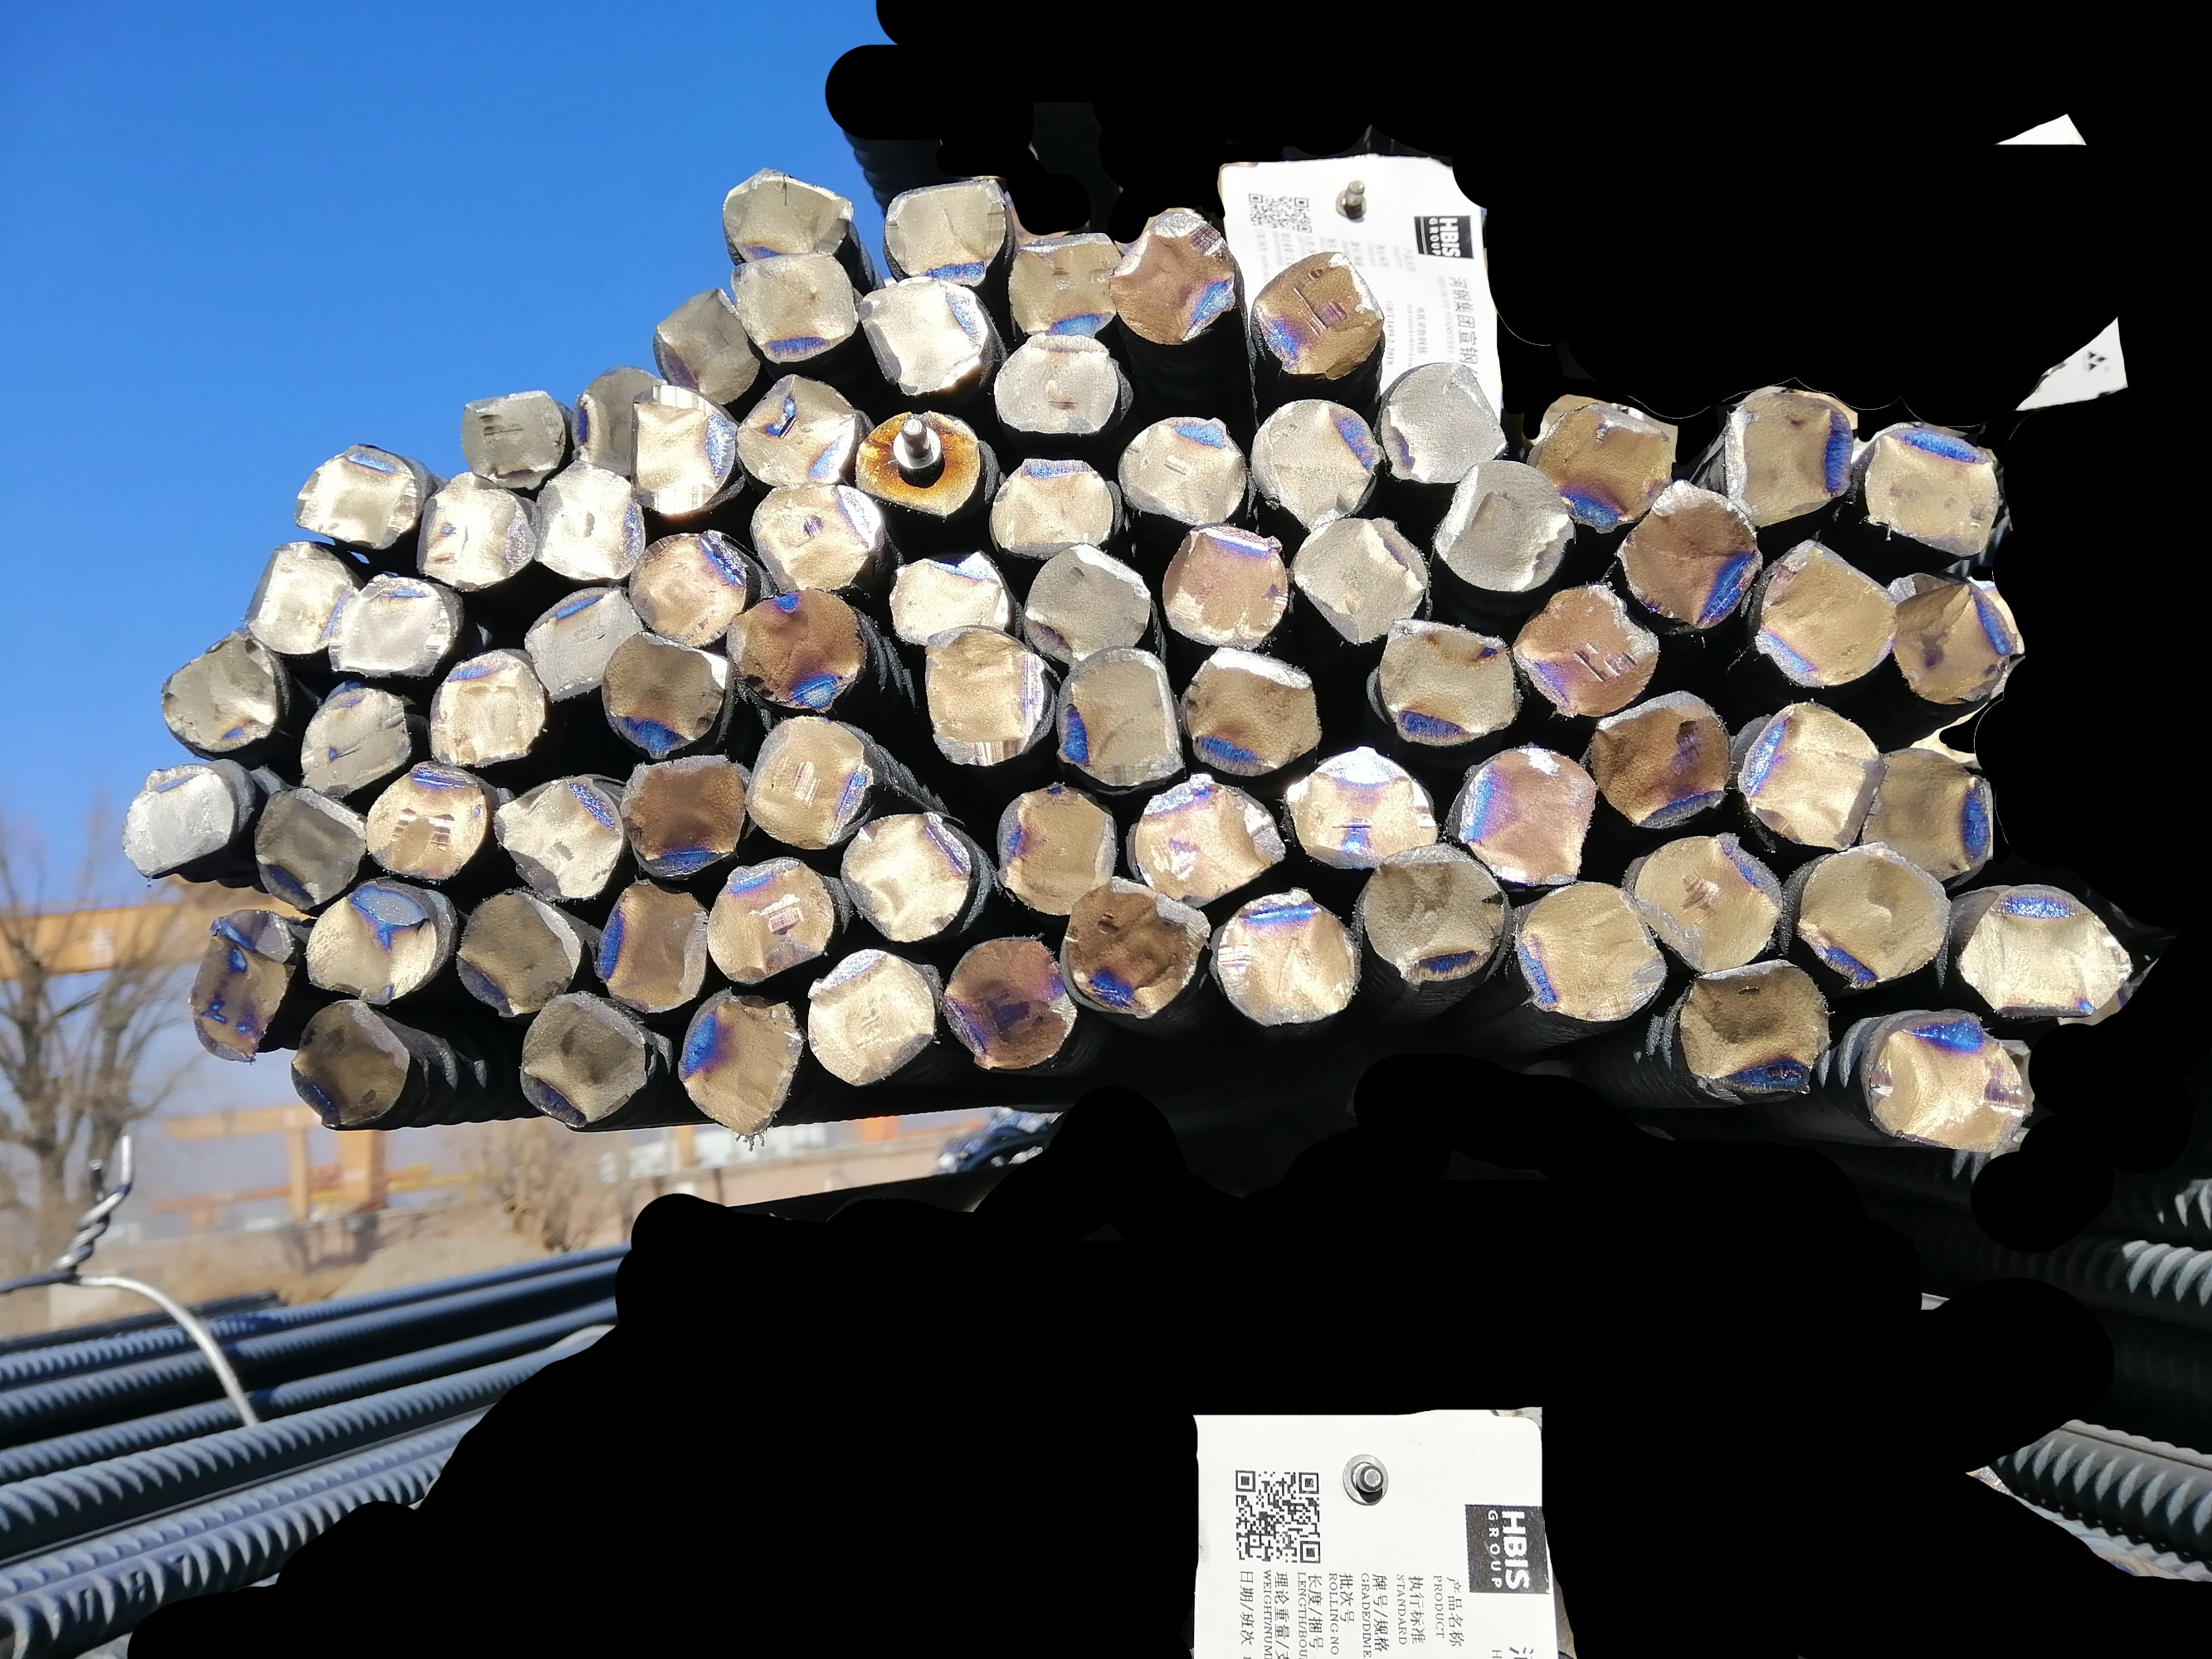rebar: (1954, 870, 2128, 1021), (1734, 694, 1896, 850), (1506, 875, 1673, 1026), (1743, 538, 1902, 692), (1799, 835, 1954, 990), (1363, 606, 1527, 753), (1611, 481, 1766, 633), (1449, 739, 1602, 890), (1503, 579, 1659, 725), (1356, 833, 1506, 983), (1872, 563, 2022, 711), (1527, 389, 1680, 533), (1869, 1014, 2027, 1154), (1056, 875, 1204, 1023), (1586, 687, 1738, 829), (1686, 946, 1829, 1098), (1215, 884, 1363, 1028), (795, 941, 936, 1089), (178, 901, 300, 1072), (1853, 413, 1999, 554), (945, 929, 1082, 1077), (1863, 735, 1999, 885), (1137, 775, 1288, 910), (1178, 640, 1323, 777), (1635, 829, 1780, 967), (1281, 748, 1445, 868), (512, 985, 648, 1129), (1246, 389, 1382, 533), (1435, 457, 1574, 596), (1103, 211, 1243, 349), (282, 992, 413, 1138), (1719, 390, 1858, 526), (922, 622, 1051, 769), (842, 807, 974, 948), (1290, 514, 1431, 647), (744, 714, 875, 857), (671, 988, 793, 1140), (1058, 647, 1189, 788), (744, 477, 885, 606), (1252, 251, 1386, 385), (453, 885, 584, 1023), (302, 880, 443, 1007), (725, 589, 870, 713), (587, 878, 715, 1018), (354, 758, 490, 885), (617, 755, 751, 882), (1163, 526, 1292, 657), (995, 784, 1123, 917), (492, 775, 624, 903), (521, 458, 655, 584), (863, 277, 1002, 397), (593, 629, 736, 746), (1021, 544, 1154, 669), (1377, 362, 1511, 483), (519, 586, 654, 702), (730, 247, 861, 366), (1123, 413, 1255, 530), (730, 371, 863, 486), (626, 378, 736, 516), (708, 857, 828, 983), (248, 782, 364, 911), (160, 638, 286, 756), (882, 174, 1011, 289), (992, 329, 1124, 437), (628, 530, 748, 648), (988, 451, 1116, 563), (722, 166, 856, 270), (887, 545, 1013, 657), (418, 477, 537, 594), (856, 411, 987, 516), (427, 655, 549, 767), (326, 572, 453, 678), (122, 763, 235, 882), (242, 535, 354, 655), (295, 443, 418, 549), (655, 288, 767, 404), (1006, 230, 1123, 340), (298, 690, 411, 802), (455, 394, 570, 491), (572, 361, 664, 477)
